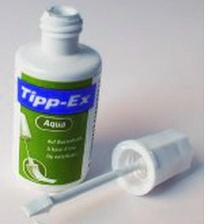correction_fluid: (10, 0, 106, 192)
